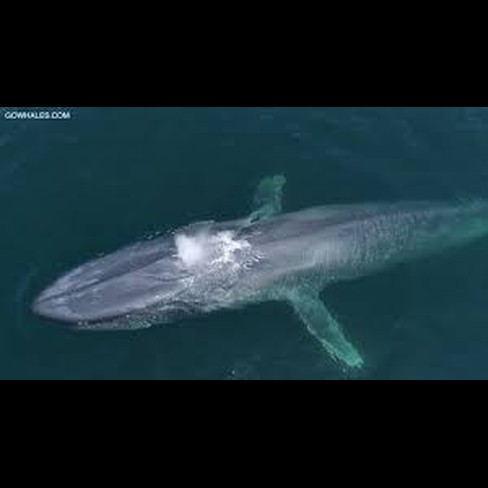bluewhale: (28, 167, 487, 375)
